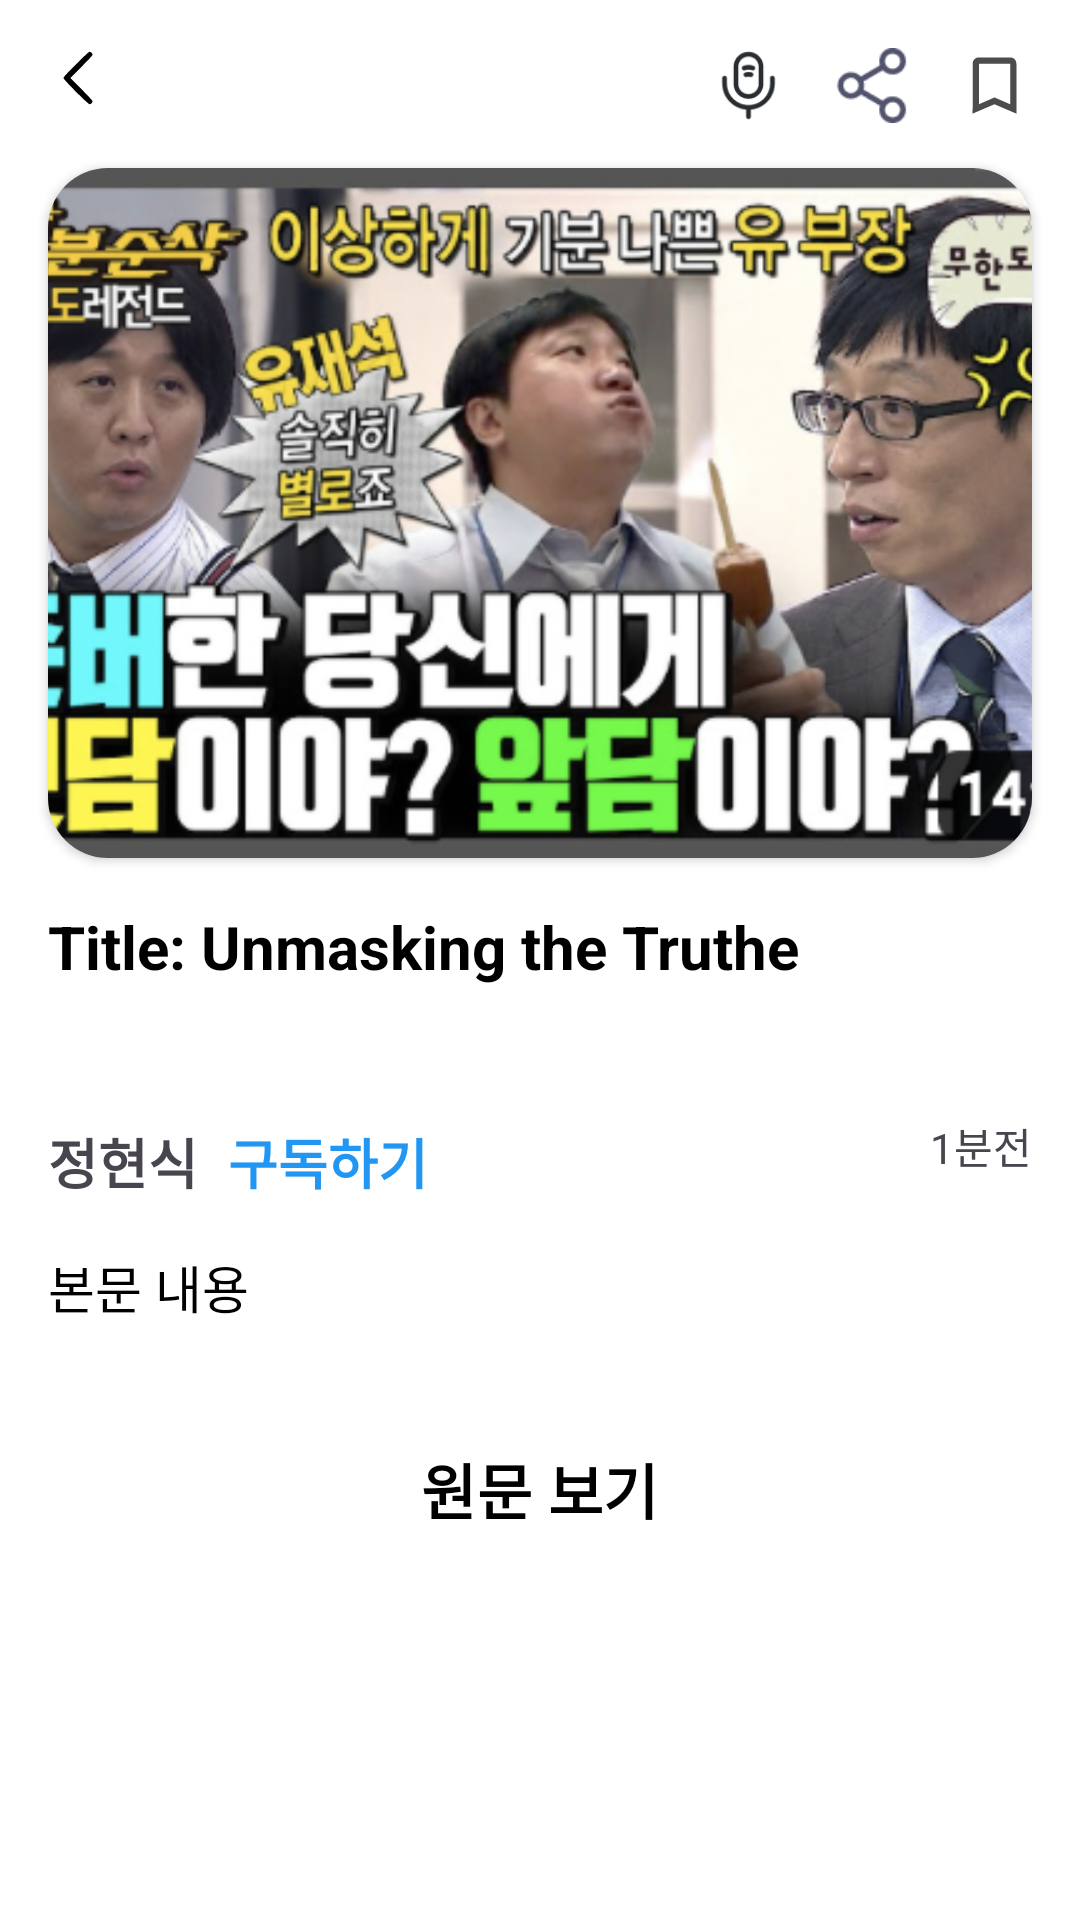

Screen size 1080x1920. Icon name, then its center in pixels as point (x, y):
back: point (78, 78)
mic: point (748, 85)
share: point (871, 85)
